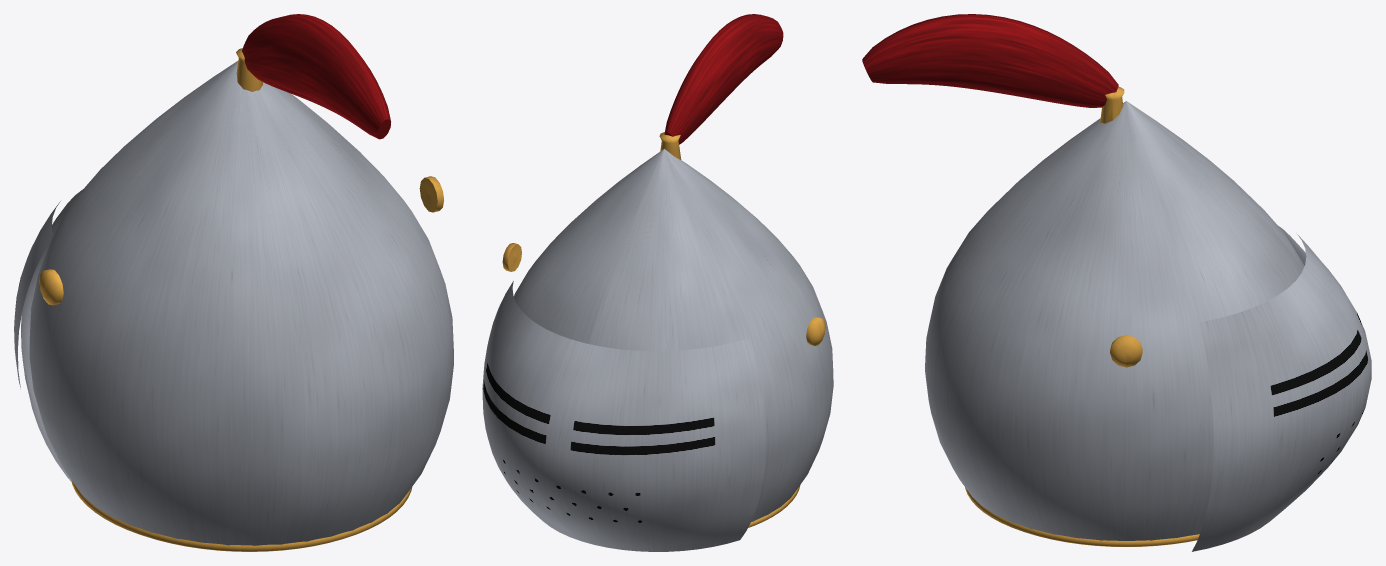
File: KnightsVisor.glb
The picture shows the model from 3 angles, left to right: view 1: azimuth 30°, elevation 25°; view 2: azimuth 150°, elevation 25°; view 3: azimuth 270°, elevation 25°; orthographic projection. The views are drawn at different scales.
Visible parts, largest first — view 1: KnightsVisor; view 2: KnightsVisor; view 3: KnightsVisor.
Boxes of the visible parts, left/top/right/bottom form: KnightsVisor: left=14, top=14, right=453, bottom=551; KnightsVisor: left=482, top=14, right=833, bottom=551; KnightsVisor: left=862, top=14, right=1371, bottom=551.
Size of the model in its own units: 1.52 by 1.93 by 1.87.
Materials: 1 (1 with a texture image).
